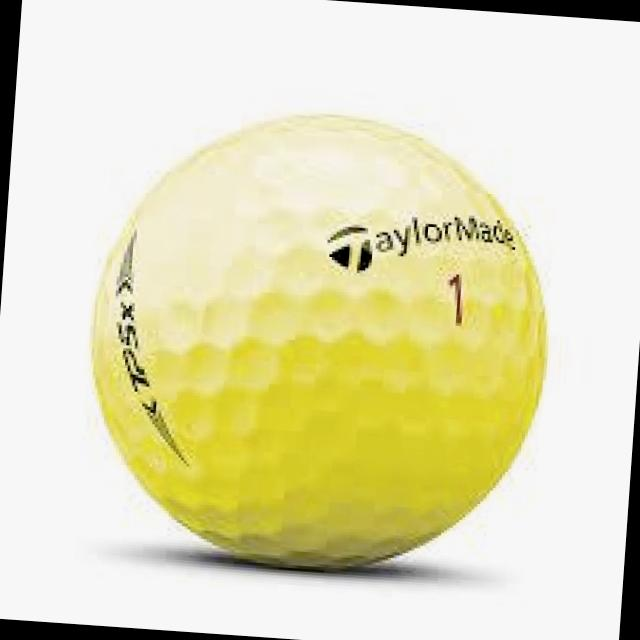ball: (71, 92, 566, 589)
